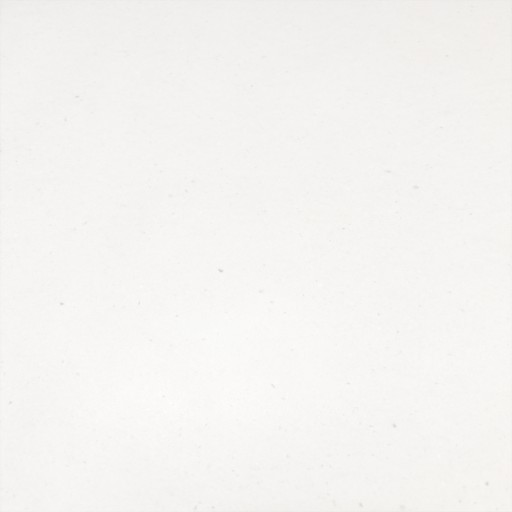lego: (207, 216, 305, 297)
